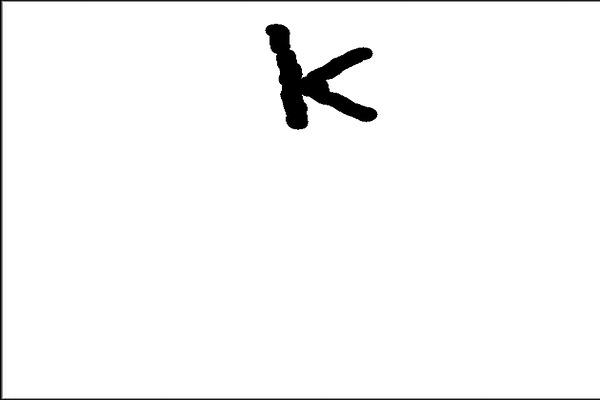K: (255, 13, 383, 135)
